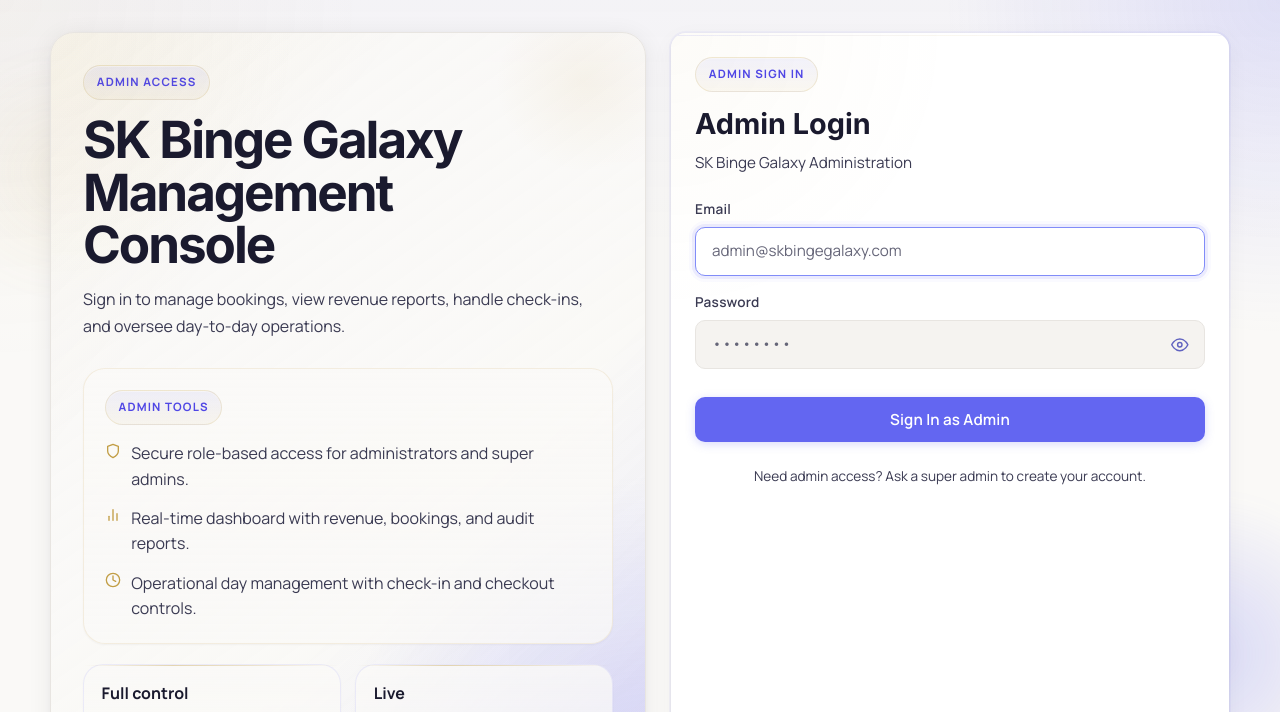
AdminLogin Page › shows error on admin login failure
This screenshot has width=1280, height=712.
Type "admin@test.com" into the field labelled "Email" at (950, 252), box left=695, top=227, right=1205, bottom=276
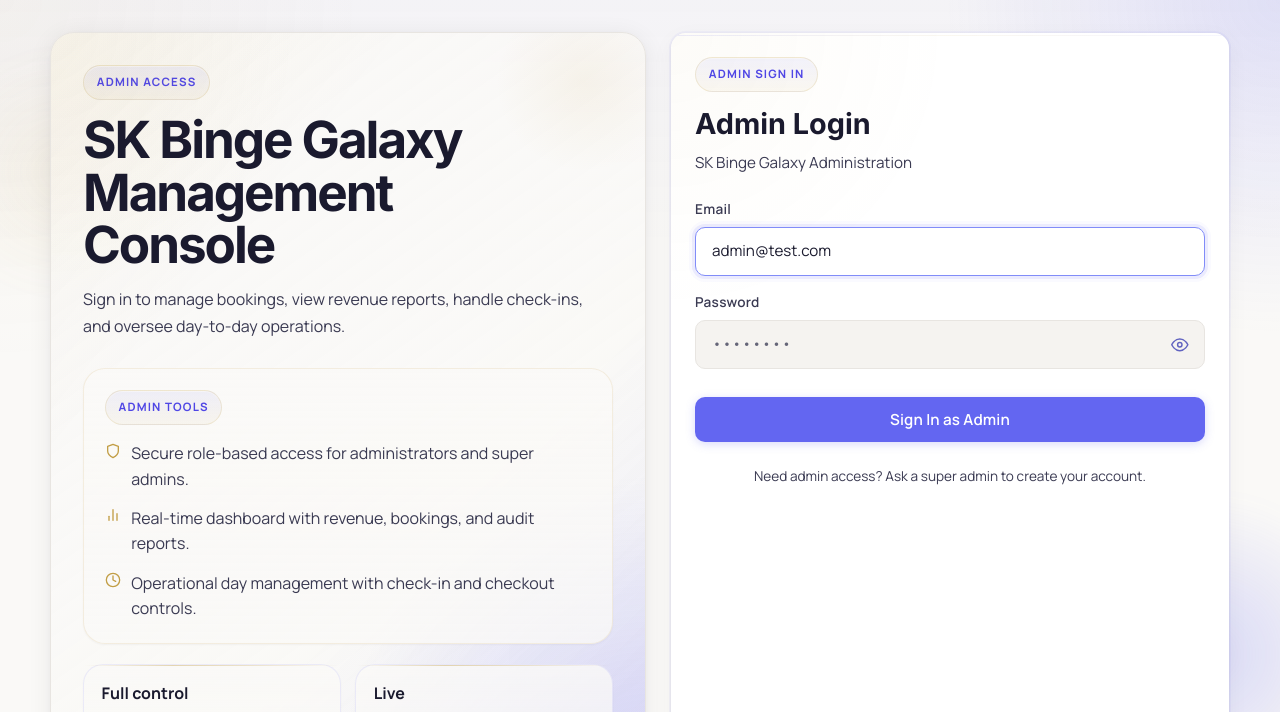
Type "wrong" into the password field labelled "Password" at (950, 344), box left=695, top=320, right=1205, bottom=369
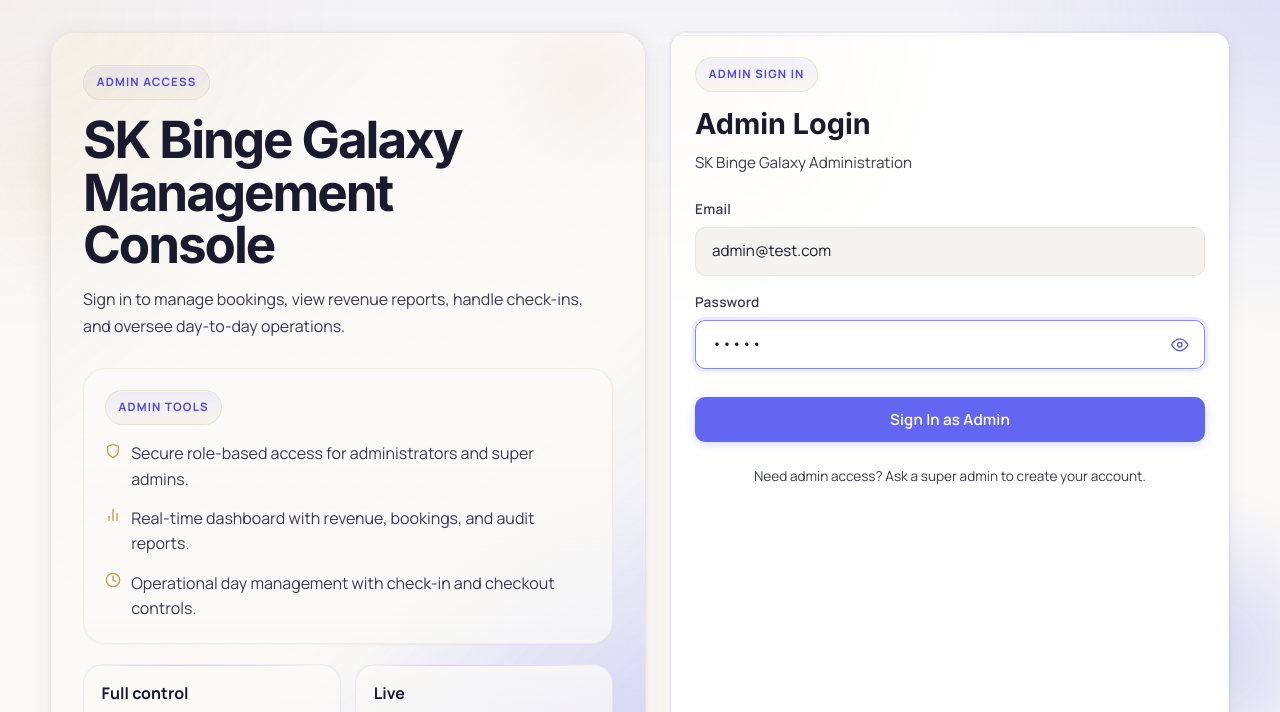
Click the button "Sign In as Admin" at (950, 419), box left=695, top=397, right=1205, bottom=442
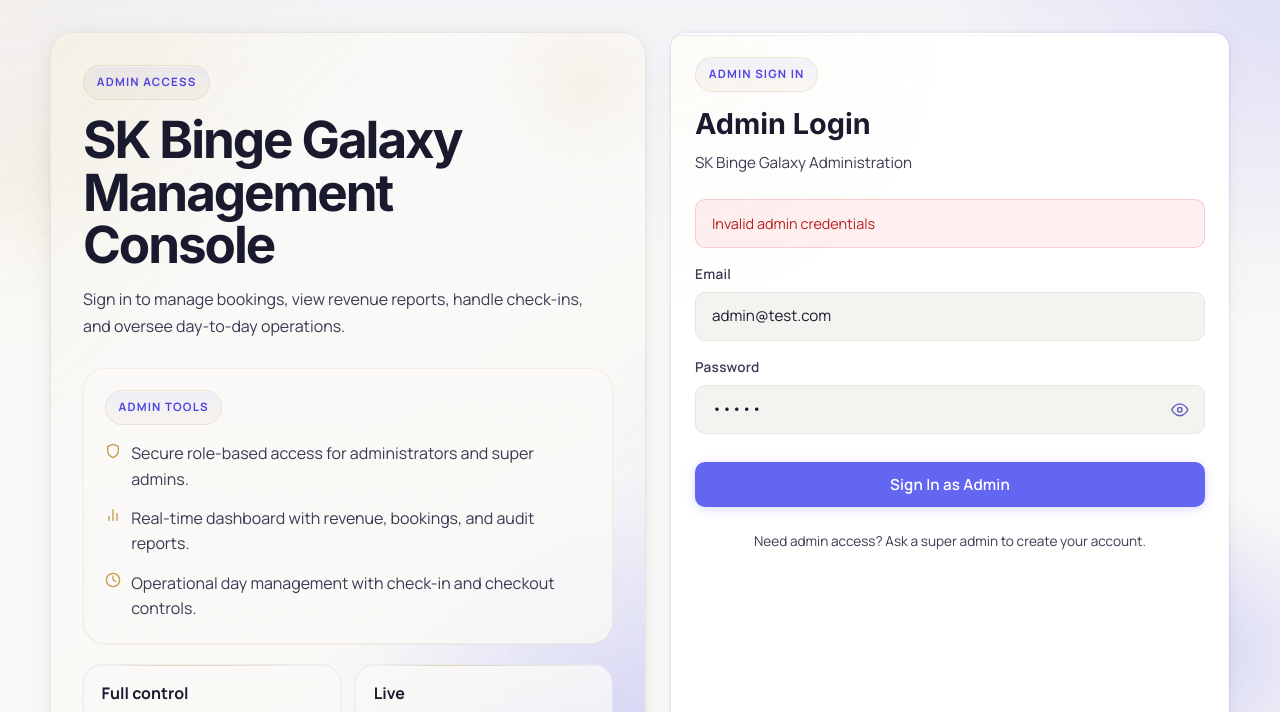
Now the text "Invalid admin credentials" is shown, box left=695, top=199, right=1205, bottom=248
